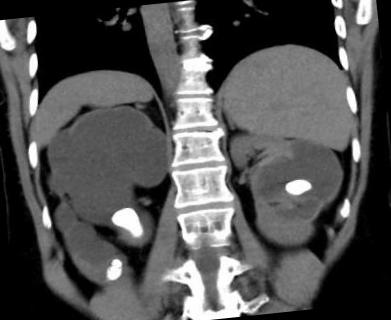Tas_Var: (102, 202, 151, 245), (280, 174, 314, 200), (101, 256, 125, 284)
